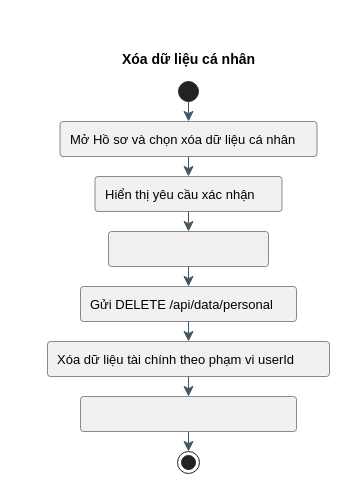
The diagram is 347 pixels wide and 491 high, and some of its shapes have lost their labels. The box of each missing label's shape, as (x1, y1, x2, y2) in pixels:
Tải lại trạng thái các màn hình: (80, 396, 296, 431)
Xác nhận thao tác xóa: (108, 231, 268, 266)
